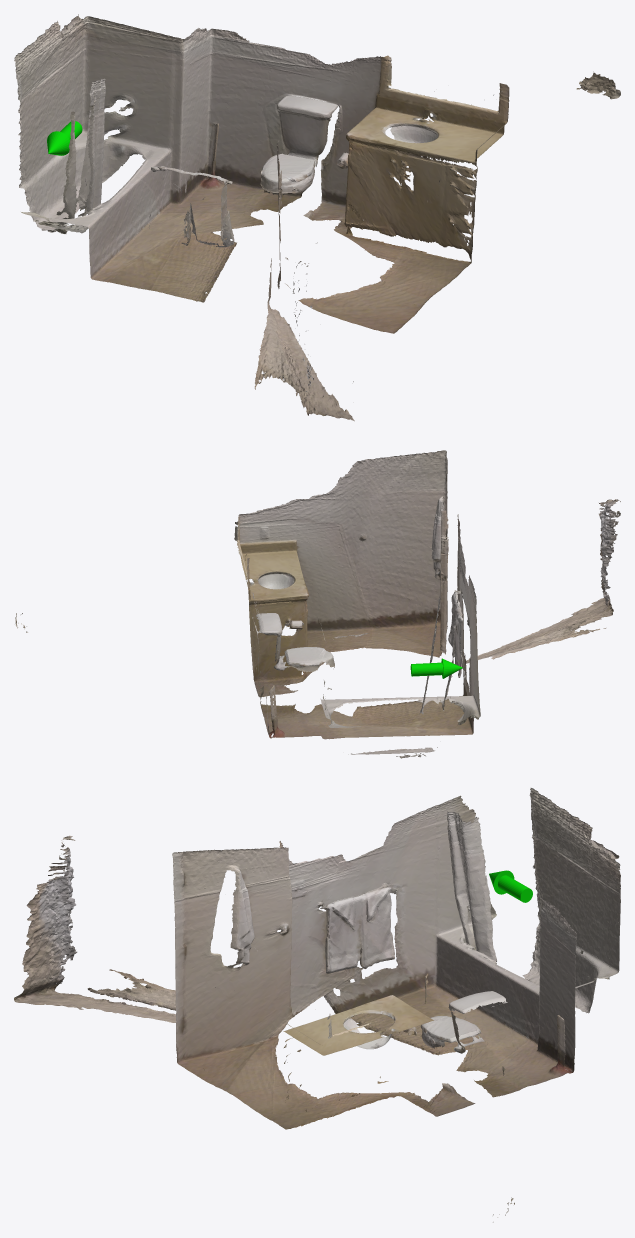
The model's file is situation_9.glb.
3 renders of one model, top to bottom at view 1: azimuth 30°, elevation 25°; view 2: azimuth 150°, elevation 25°; view 3: azimuth 270°, elevation 25°, orthographic. The views are drawn at different scales.
Visible parts, largest first — view 1: world; view 2: world; view 3: world.
Part boxes in pixels (box(x1,y1,x2,y2)): world: box(14, 14, 620, 421); world: box(15, 450, 620, 758); world: box(14, 788, 620, 1222).
Bounding box in the file's own units: 5.19 × 1.87 × 4.73.
